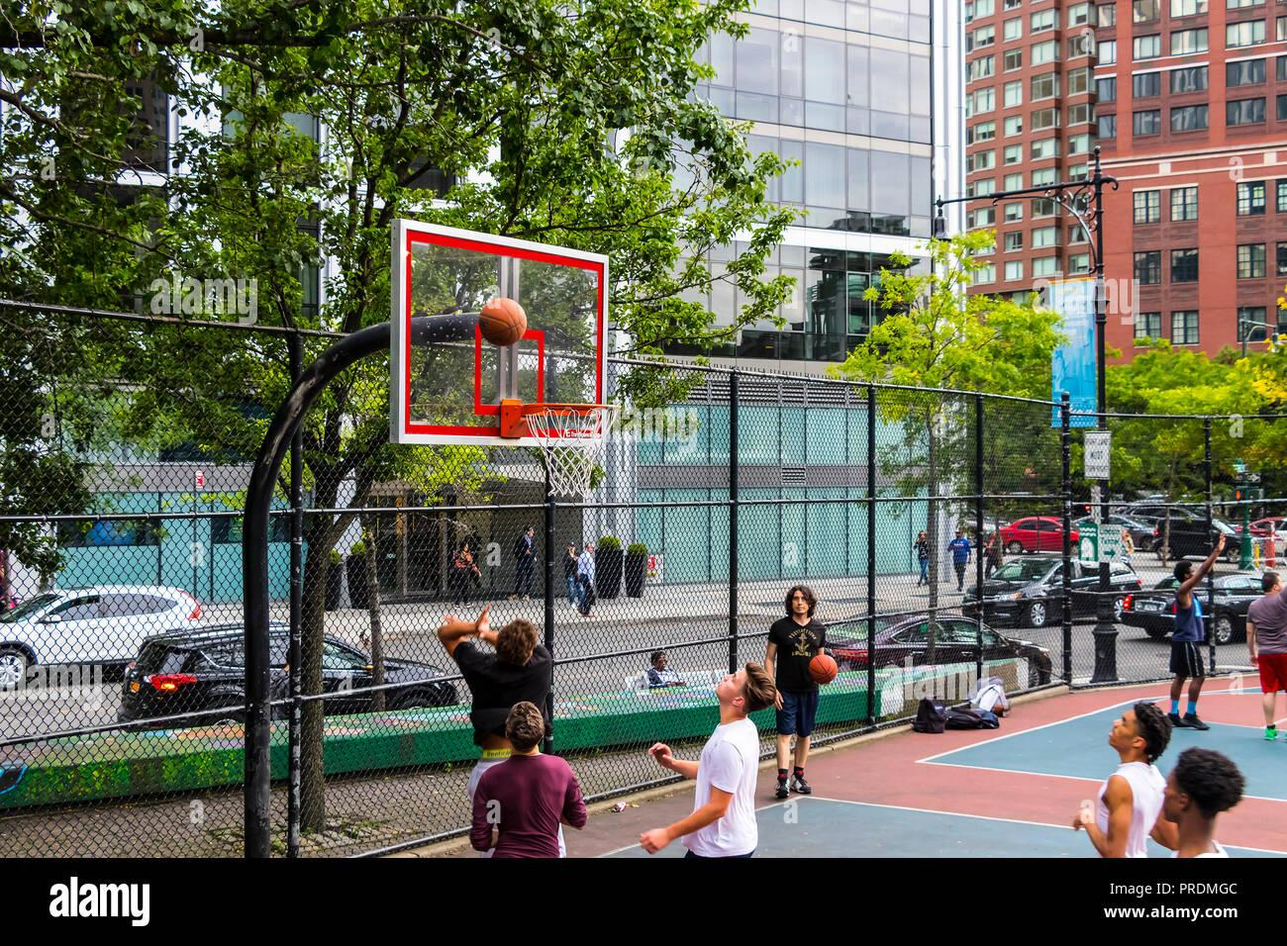basketball: (478, 291, 529, 352), (805, 652, 839, 683)
